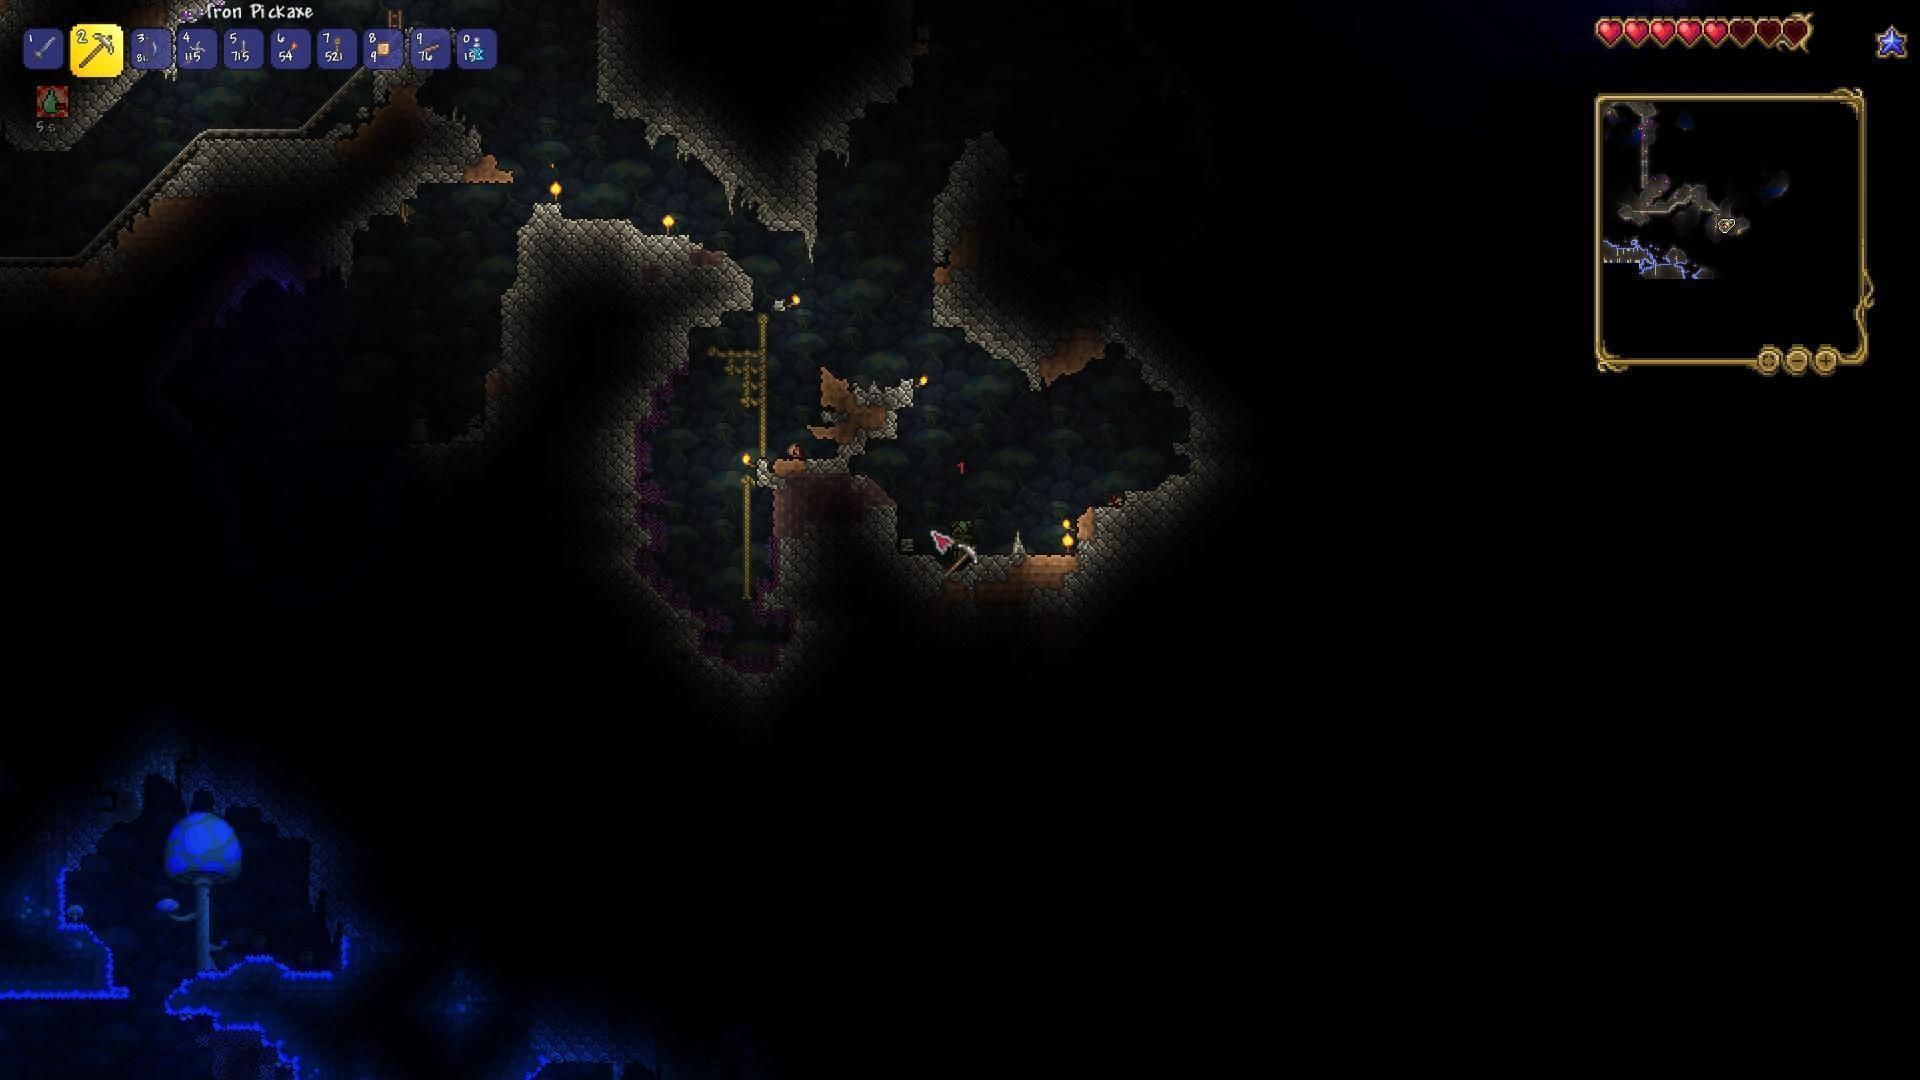bow: (141, 32, 160, 63)
knife: (241, 37, 248, 61)
pickaxe: (76, 32, 116, 71)
recallP: (468, 36, 484, 61)
rope: (331, 33, 343, 62)
shuriken: (187, 38, 206, 57)
